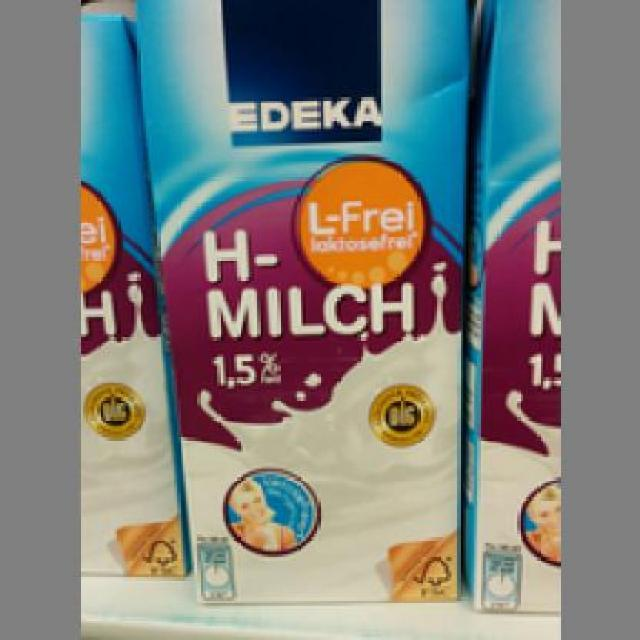Milk: (130, 0, 469, 615)
